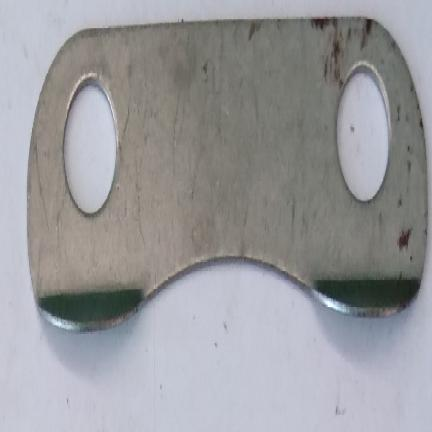besi_tidak_karat: (27, 19, 431, 330)
